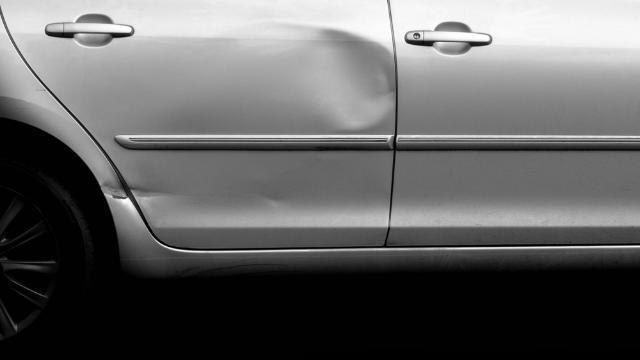dent: (297, 27, 395, 129), (130, 182, 154, 209), (100, 179, 125, 199)
